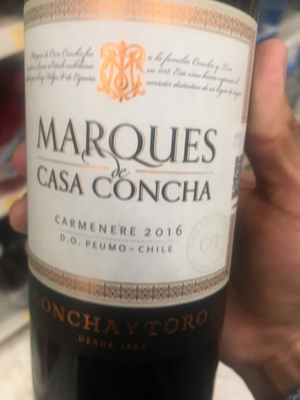marques de casa concha carmenere: (18, 6, 258, 400)
